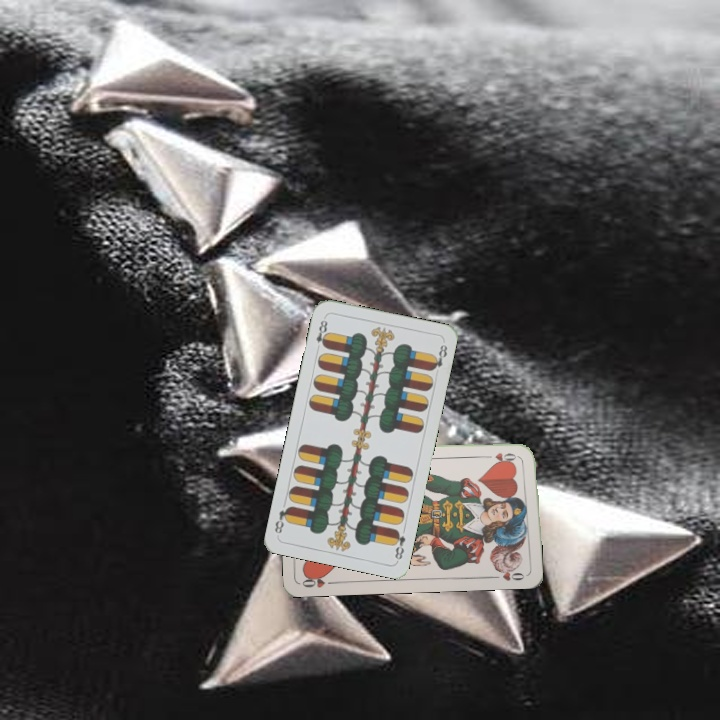E8: (312, 313, 331, 353), (389, 525, 408, 562)
HO: (298, 572, 338, 590), (482, 448, 522, 464)
